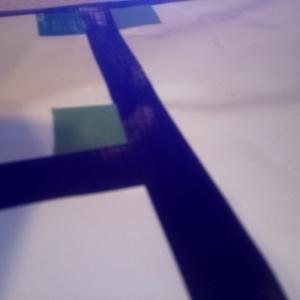bottom_left: (36, 7, 110, 36)
bottom_right: (84, 3, 161, 29)
top_left: (54, 104, 163, 184)
